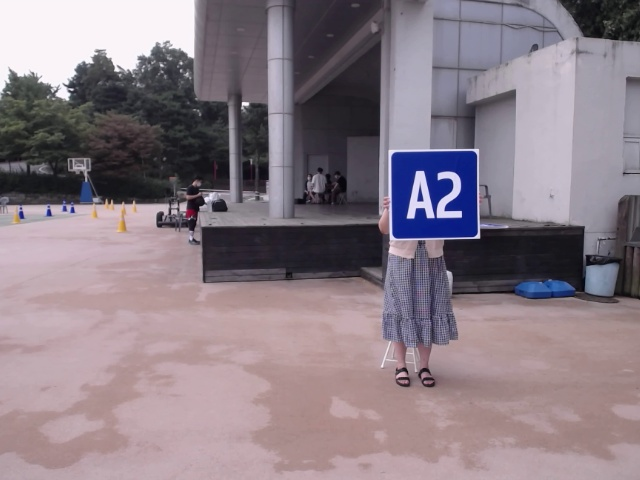delivery_a2: (388, 150, 480, 239)
